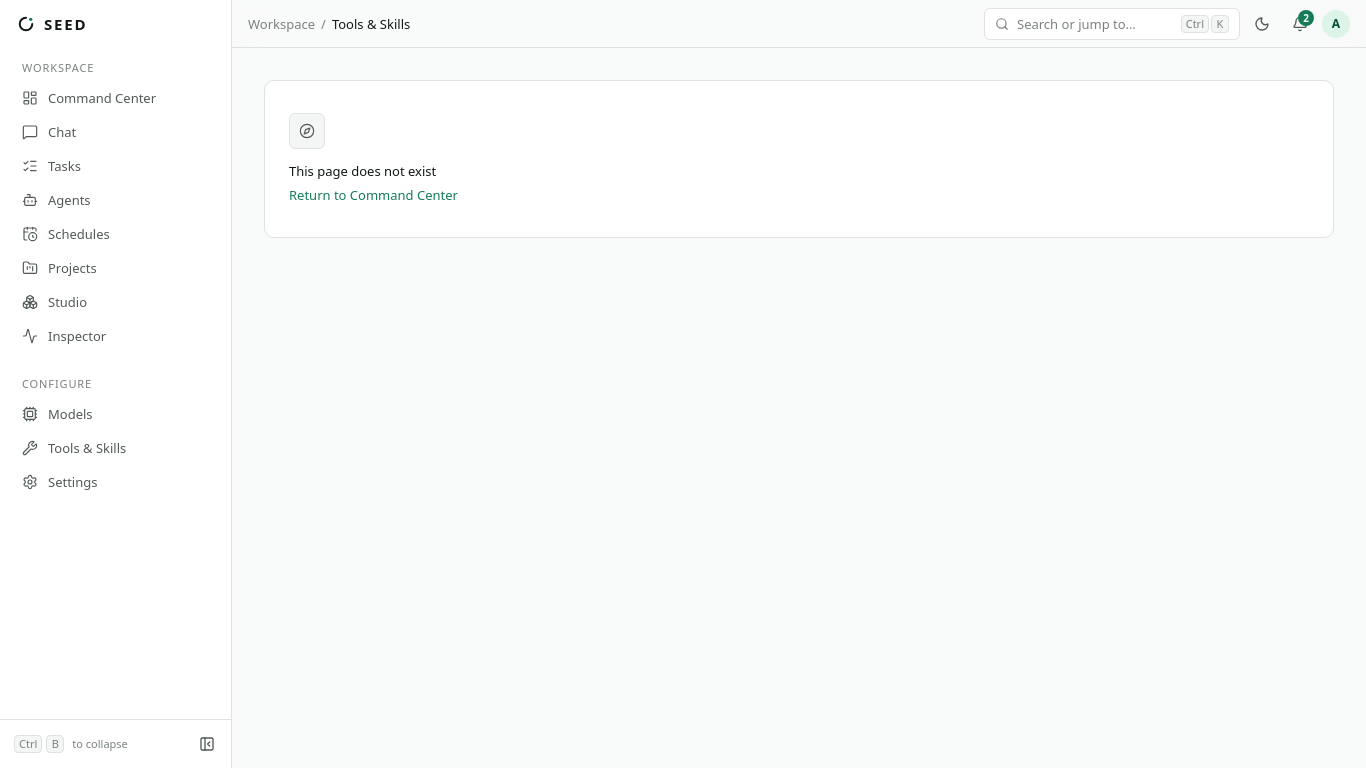
it: Notification bell › shows the unread count, opens a notification and marks it read
Click the button named "Notifications, 2 unread" at [1300, 24], box [1284,8,1316,40]
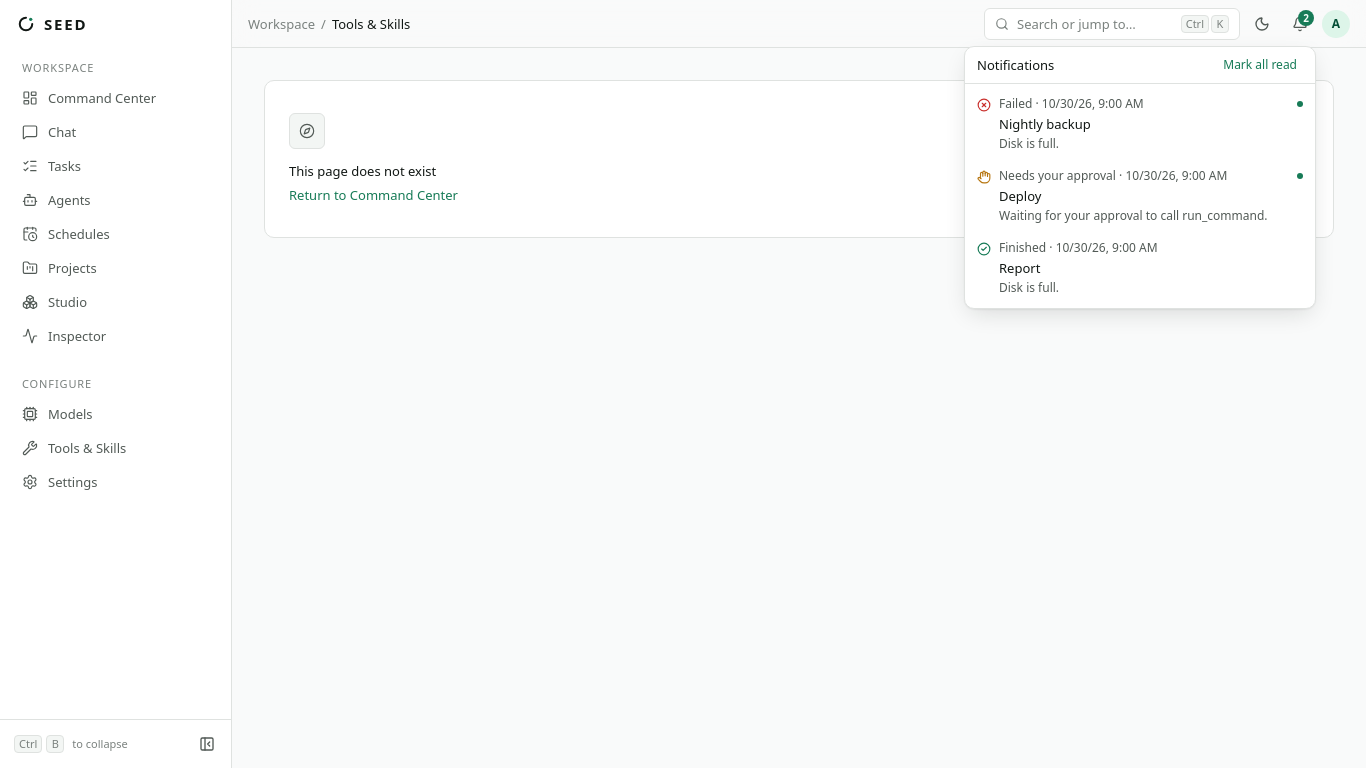
Expected: the menu item "Finished · 10/30/26, 9:00 AM Report Disk is full." does not show "unread", [977,239,1158,296]
Expected: the menu item "Failed · 10/30/26, 9:00 AM Nightly backup Disk is full." is shown, [969,88,1311,160]
Click the menu item "Deploy" at [1057, 176], box [969,160,1311,232]
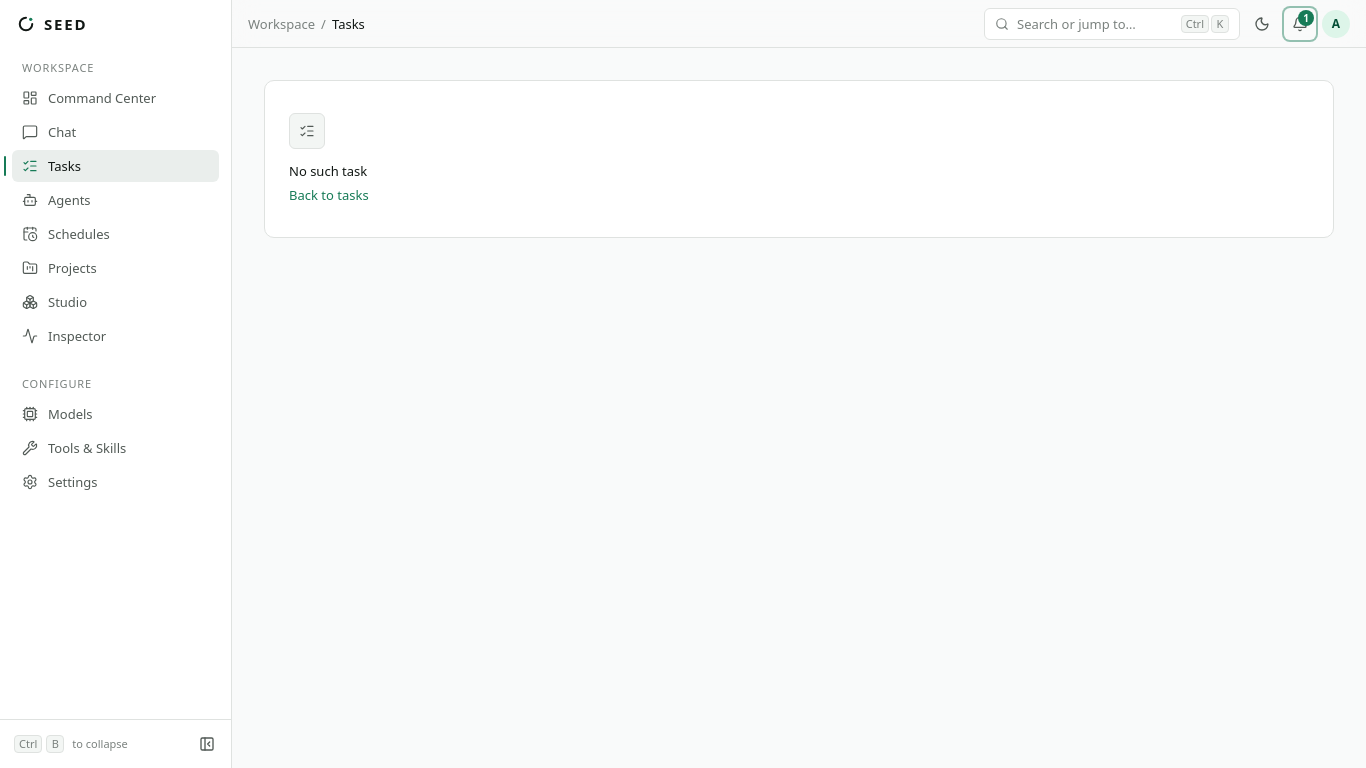
Expected: the button named "Notifications, 1 unread" is shown, [1284,8,1316,40]
